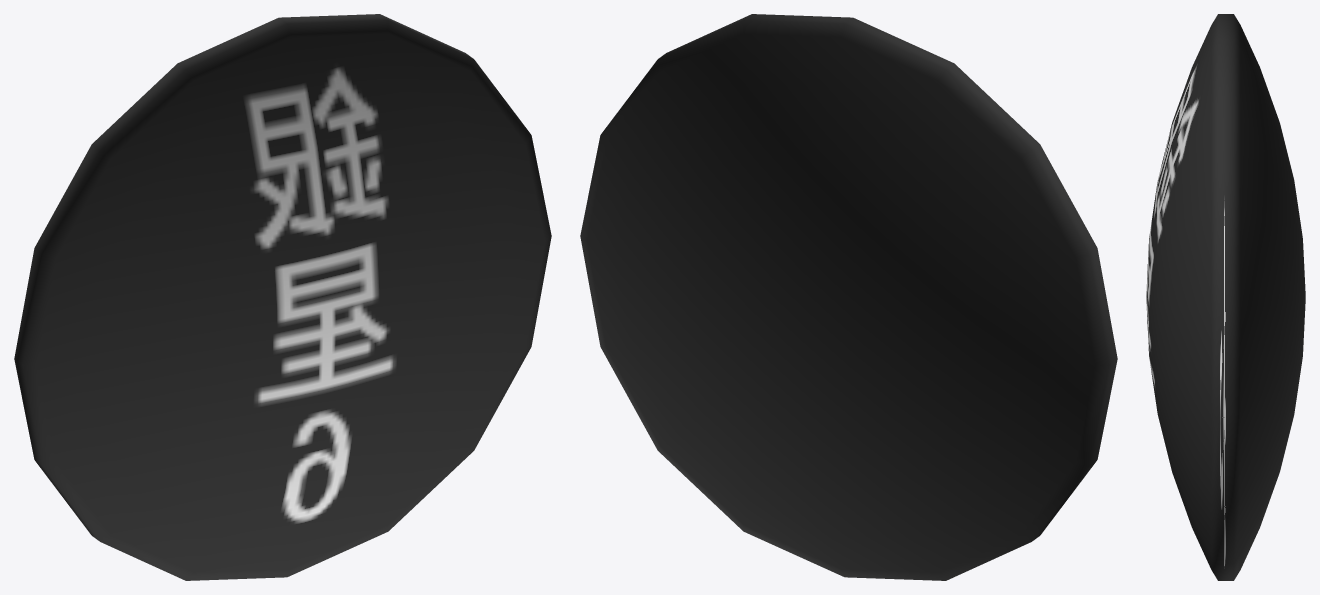
Rendered from GO1.ICO.obj.
3 renders of one model, left to right at view 1: azimuth 30°, elevation 25°; view 2: azimuth 150°, elevation 25°; view 3: azimuth 270°, elevation 25°, orthographic. The views are drawn at different scales.
Size of the model in its own units: 4 by 4 by 1.12.
